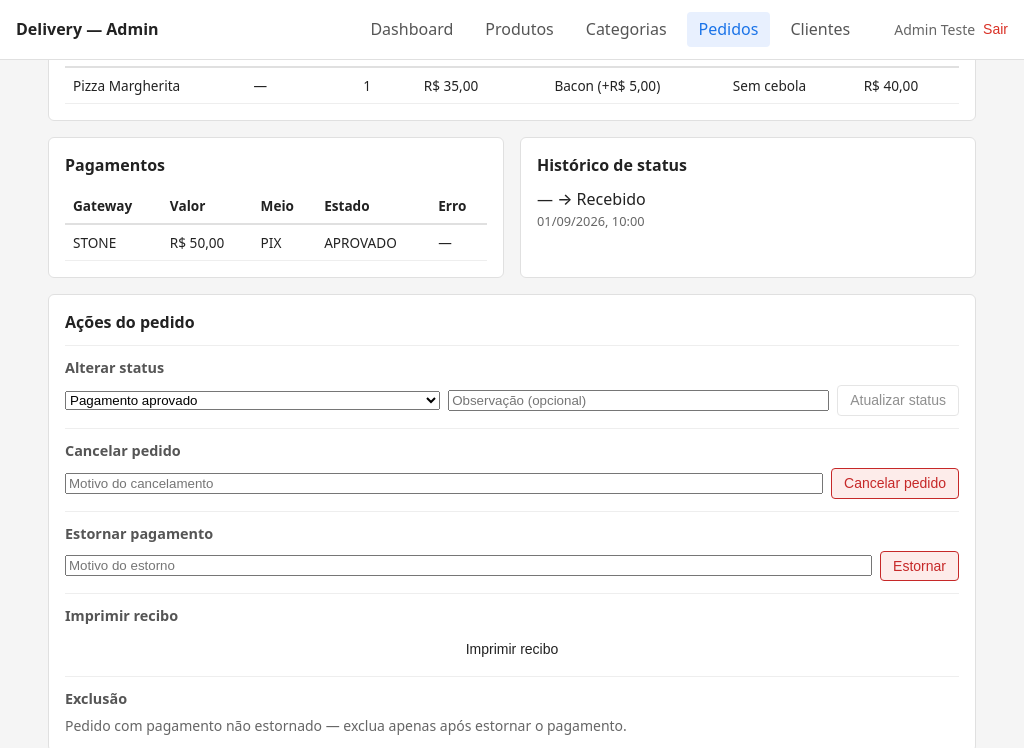
Scenario: OrderDetailPage › loads and displays receipt when printing
The width and height of the screenshot is (1024, 748).
(page scrolled)
What coordinates should you click on to do the following:
click the button "Imprimir recibo"
I would click on:
 (512, 649)
Its box is 65,633 -> 959,664.
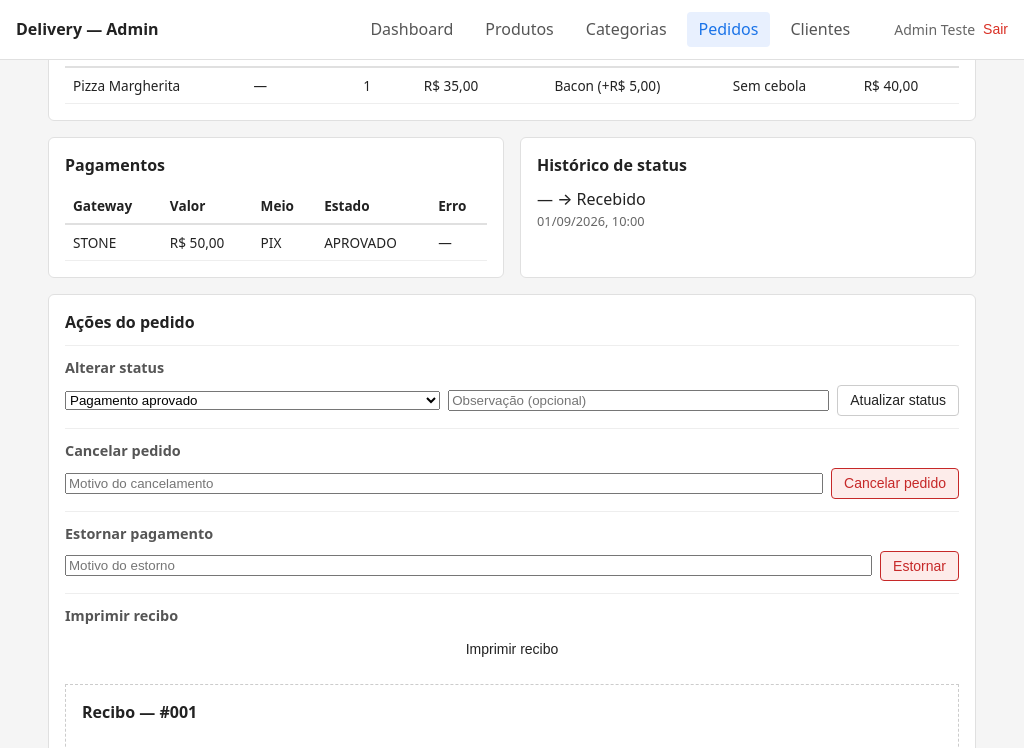
Expected: the text "Bacon (+R$ 5,00)" is shown, 546,67 -> 725,104
Expected: the heading "Recibo — #001" is shown, 82,701 -> 197,723
